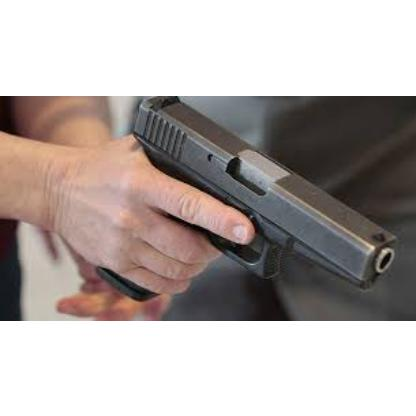gun: (92, 97, 384, 303)
